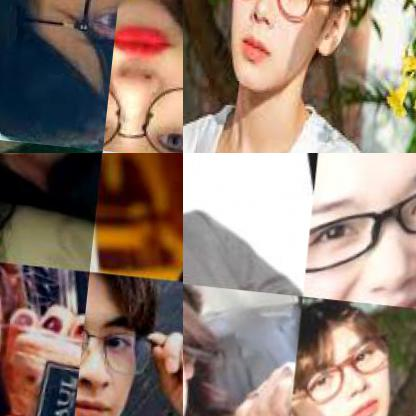Glasses: (303, 153, 415, 316), (289, 318, 409, 415), (76, 294, 166, 396), (183, 332, 220, 415)
glasses: (102, 87, 182, 152), (221, 0, 335, 29), (59, 0, 121, 47)
